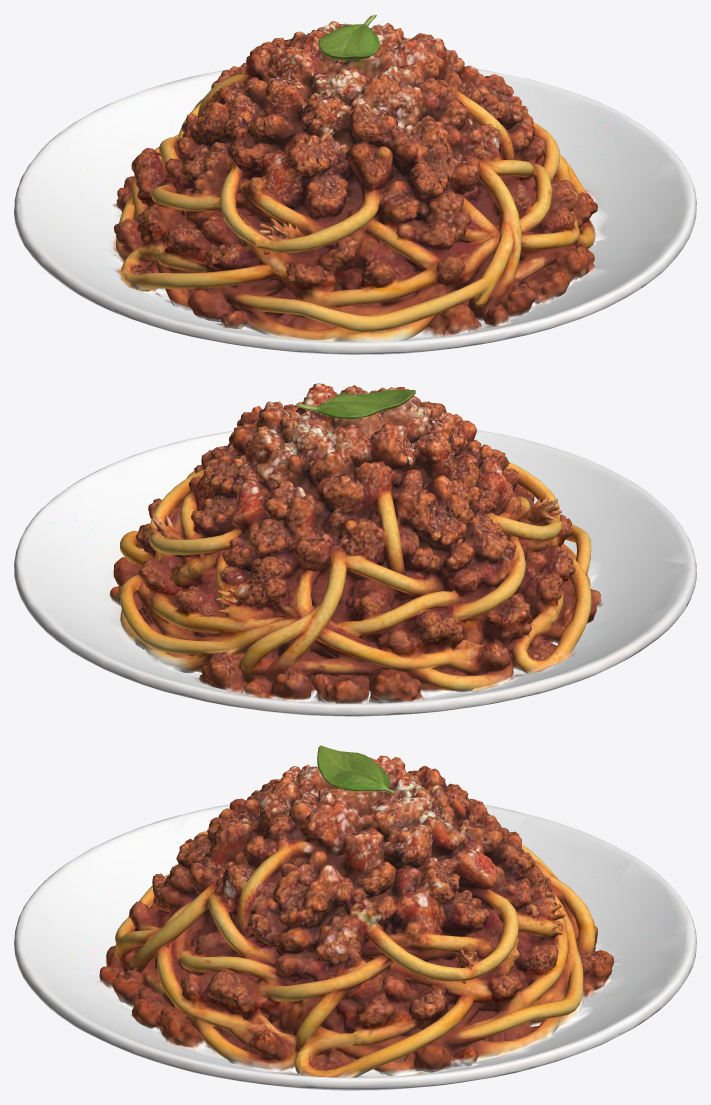
File: pasta_1.glb
The picture shows the model from 3 angles, top to bottom: view 1: azimuth 30°, elevation 25°; view 2: azimuth 150°, elevation 25°; view 3: azimuth 270°, elevation 25°; orthographic projection.
Visible parts, largest first — view 1: tripo_node_135eea3e-54af-4471-9780-7bf986daacd5; view 2: tripo_node_135eea3e-54af-4471-9780-7bf986daacd5; view 3: tripo_node_135eea3e-54af-4471-9780-7bf986daacd5.
Boxes of the visible parts, bbox=[...] form: tripo_node_135eea3e-54af-4471-9780-7bf986daacd5: bbox=[14, 14, 696, 354]; tripo_node_135eea3e-54af-4471-9780-7bf986daacd5: bbox=[14, 383, 696, 716]; tripo_node_135eea3e-54af-4471-9780-7bf986daacd5: bbox=[14, 745, 696, 1090].
Size of the model in its own units: 0.27 by 0.0973 by 0.2697.
1 material, 1 textured.
